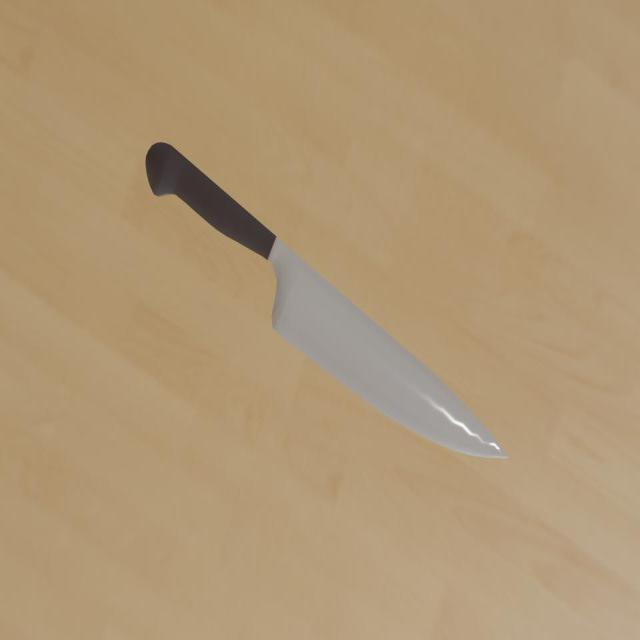knife: (146, 143, 276, 263)
